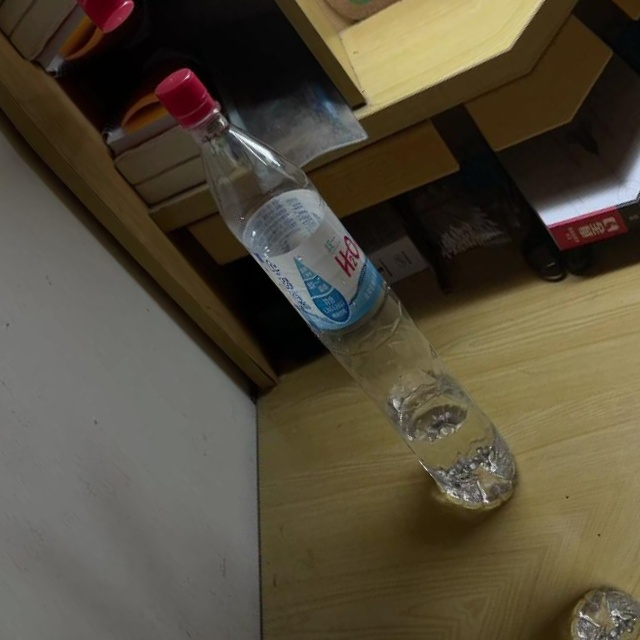Water: (125, 49, 550, 528)
